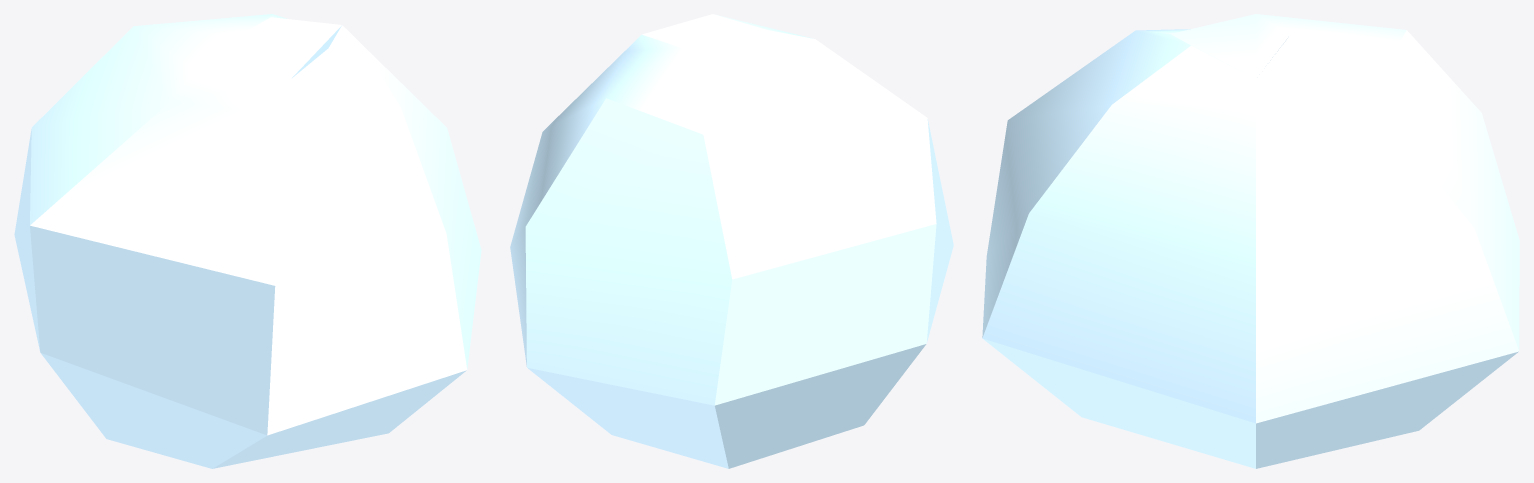
The model's file is prop_rock_orren_v4_ShadowProxy.glb.
3 renders of one model, left to right at view 1: azimuth 30°, elevation 25°; view 2: azimuth 150°, elevation 25°; view 3: azimuth 270°, elevation 25°, orthographic. The views are drawn at different scales.
Parts seen in each view (by area): view 1: prop_rock_orren_v4_ShadowProxy / Natural silhouette; view 2: prop_rock_orren_v4_ShadowProxy / Natural silhouette; view 3: prop_rock_orren_v4_ShadowProxy / Natural silhouette.
Part boxes in pixels (x1,y1,x2,y2): prop_rock_orren_v4_ShadowProxy / Natural silhouette: (14,14,481,468); prop_rock_orren_v4_ShadowProxy / Natural silhouette: (510,14,953,468); prop_rock_orren_v4_ShadowProxy / Natural silhouette: (982,14,1519,468).
Size of the model in its own units: 1.82 by 1.41 by 1.78.
